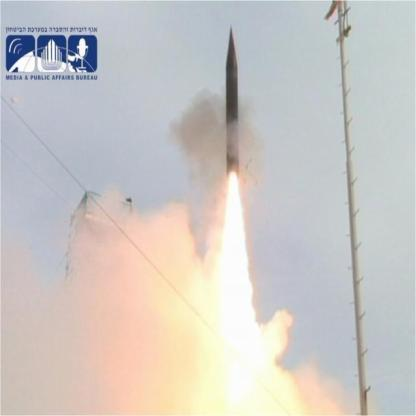MIL_TBM: (220, 25, 243, 193)
